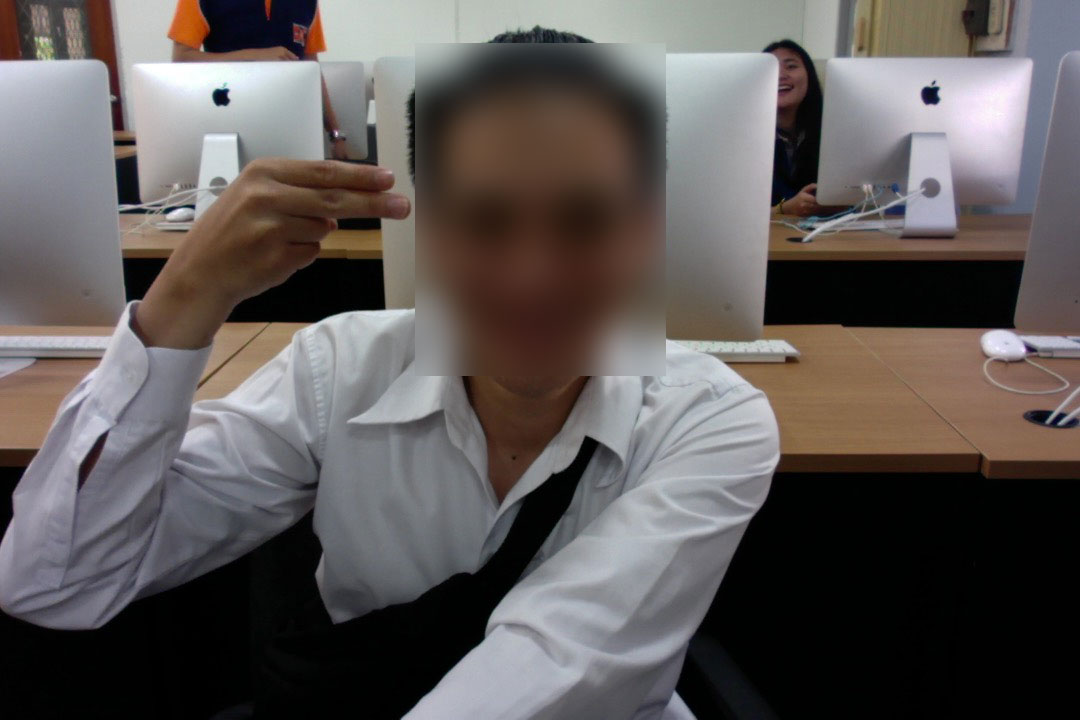hor: (163, 149, 414, 307)
